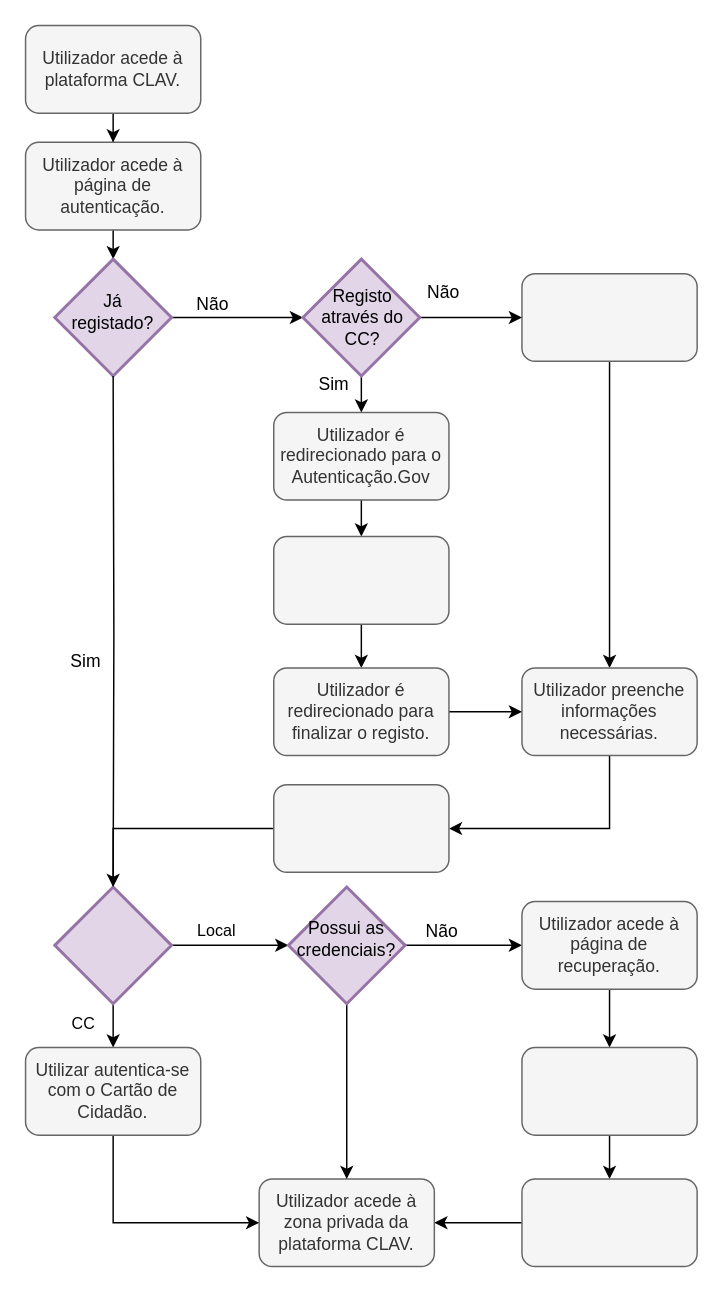
The diagram is 723 pixels wide and 1292 high, and some of its shapes have lost their labels. The centre of each missing label's shape, as x and y in pixels:
Autenticação local ou CC?: [112,944]
Utilizador acede à página de registo.: [608,316]
Utilizador autentica-se utilizando o seu PIN.: [360,579]
Utilizador conclui o registo.: [360,827]
Utilizador preenche email com o qual se registou.: [608,1090]
Utilizador redefine as crendenciais.: [608,1222]
